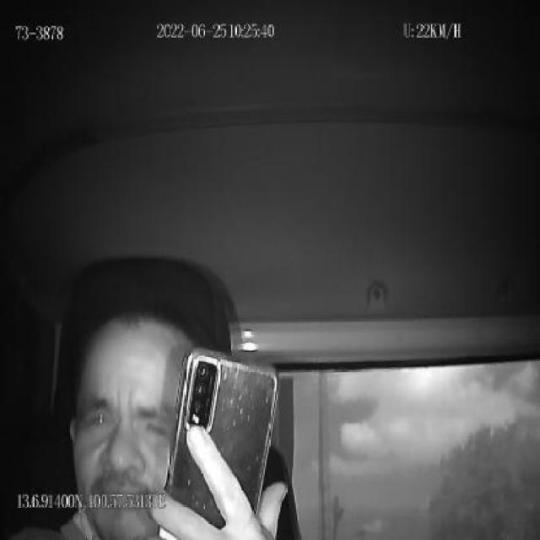phone: (160, 345, 280, 540)
